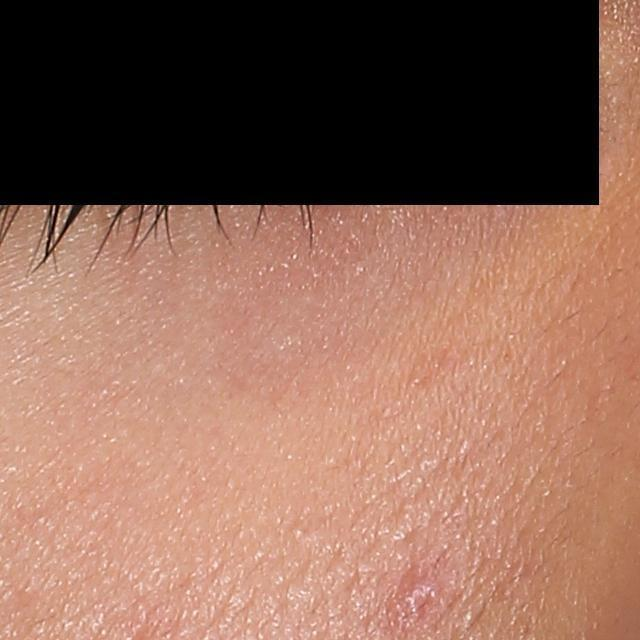papule: (395, 570, 448, 618)
